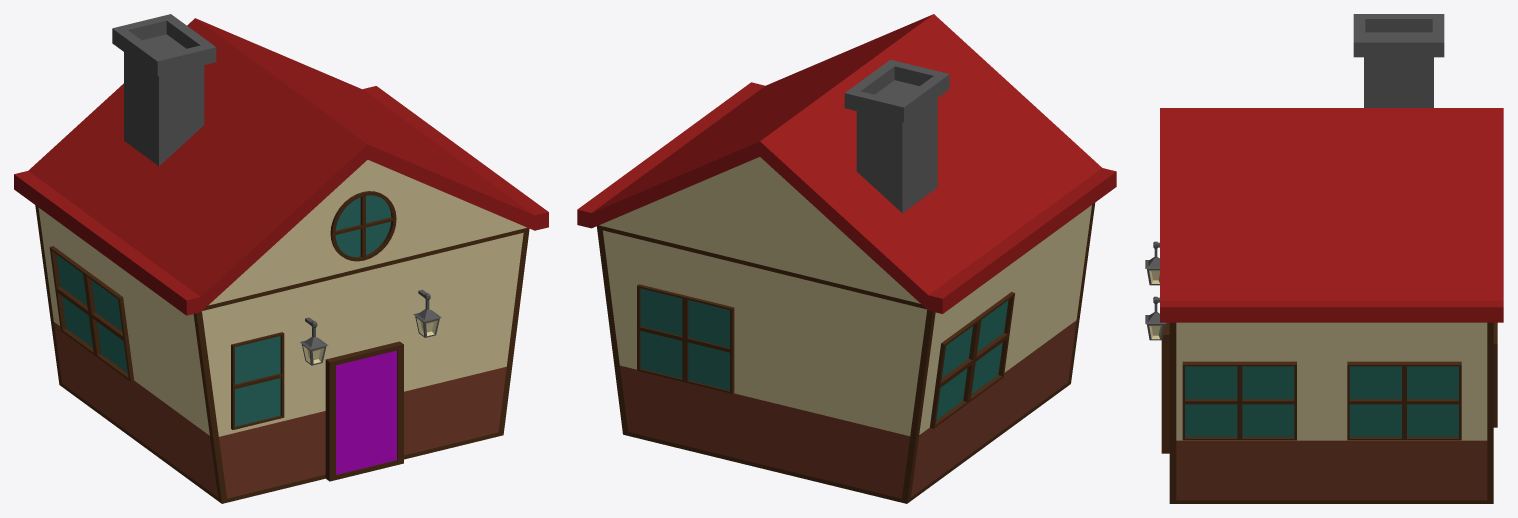
The model's file is House2.fbx.
3 renders of one model, left to right at view 1: azimuth 30°, elevation 25°; view 2: azimuth 150°, elevation 25°; view 3: azimuth 270°, elevation 25°, orthographic.
Visible parts, largest first — view 1: Cube; view 2: Cube; view 3: Cube.
Boxes of the visible parts, box(x1,y1,x2,y2) form: Cube: box(14, 14, 548, 503); Cube: box(577, 14, 1116, 503); Cube: box(1145, 14, 1503, 503).
Size of the model in its own units: 198 by 192 by 170.
